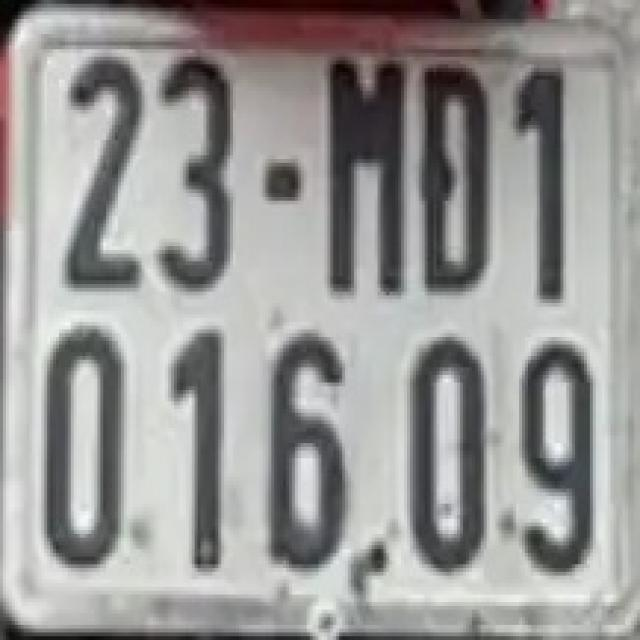0: (41, 318, 127, 572), (404, 330, 492, 576)
1: (165, 322, 233, 572), (513, 64, 575, 303)
2: (64, 53, 144, 292)
3: (156, 53, 239, 292)
6: (262, 326, 348, 572)
9: (516, 337, 599, 576)
D: (416, 61, 492, 300)
M: (318, 49, 406, 307)
